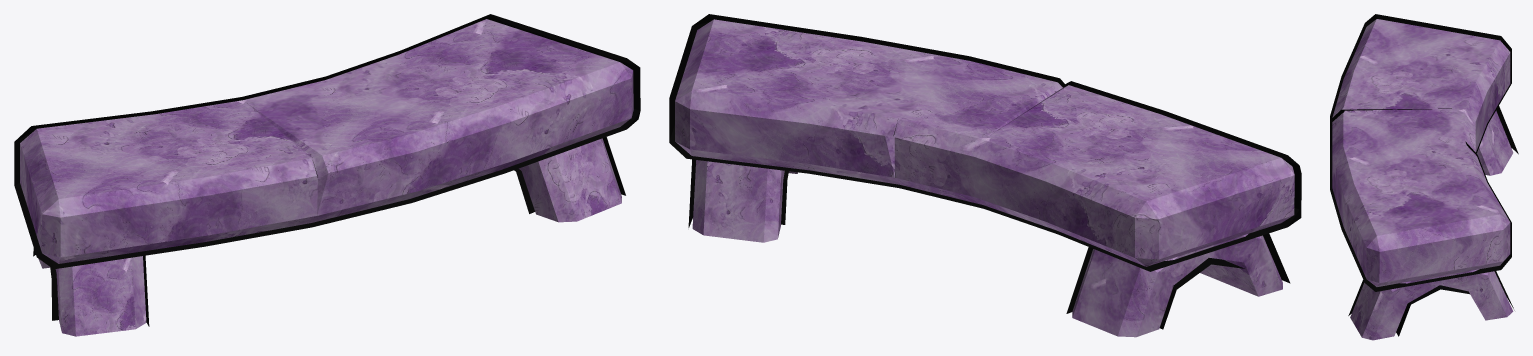
File: entity90120.gltf
3 renders of one model, left to right at view 1: azimuth 30°, elevation 25°; view 2: azimuth 150°, elevation 25°; view 3: azimuth 270°, elevation 25°, orthographic. The views are drawn at different scales.
Visible parts, largest first — view 1: node_Bench_01; view 2: node_Bench_01; view 3: node_Bench_01.
Boxes of the visible parts, x1,y1,x2,y2 form: node_Bench_01: (14, 14, 640, 336); node_Bench_01: (669, 14, 1301, 337); node_Bench_01: (1330, 14, 1518, 340).
Size of what is drawn, in the model's own units: 3.7 by 0.8056 by 1.26.
